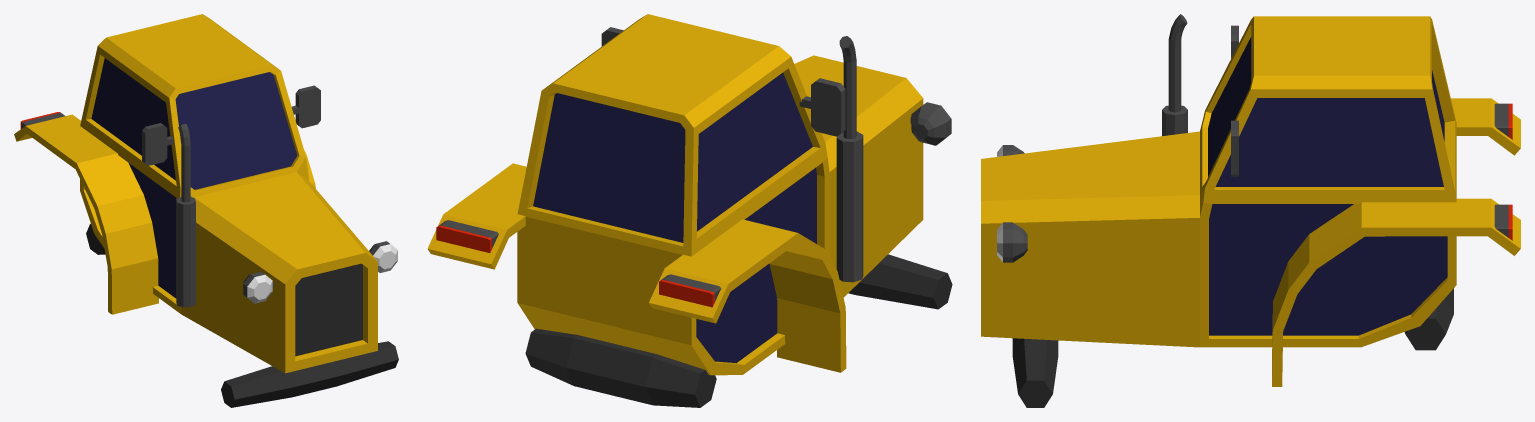
The model's file is traktor_body.fbx.
3 renders of one model, left to right at view 1: azimuth 30°, elevation 25°; view 2: azimuth 150°, elevation 25°; view 3: azimuth 270°, elevation 25°, orthographic. The views are drawn at different scales.
Parts seen in each view (by area): view 1: body, arc, pered_most, exhoust, mirror, stop_light; view 2: body, arc, zad_most, exhoust, stop_light, pered_most, mirror; view 3: body, arc, pered_most, stop_light, exhoust, zad_most, mirror.
Part boxes in pixels (x1,y1,x2,y2): body: (80,14,377,373); arc: (14,114,315,314); pered_most: (221,341,398,407); exhoust: (176,124,195,307); mirror: (142,85,320,165); stop_light: (20,112,397,303); body: (517,14,923,375); arc: (427,163,846,372); zad_most: (525,328,716,407); exhoust: (836,36,863,282); stop_light: (436,102,951,307); pered_most: (848,254,952,309); mirror: (601,27,845,136); body: (981,16,1456,347); arc: (1272,98,1520,386); pered_most: (1012,338,1058,407); stop_light: (997,103,1512,262); exhoust: (1162,14,1187,136); zad_most: (1404,288,1453,350); mirror: (1231,25,1238,176).
Size of the model in its own units: 358 by 407 by 631.
